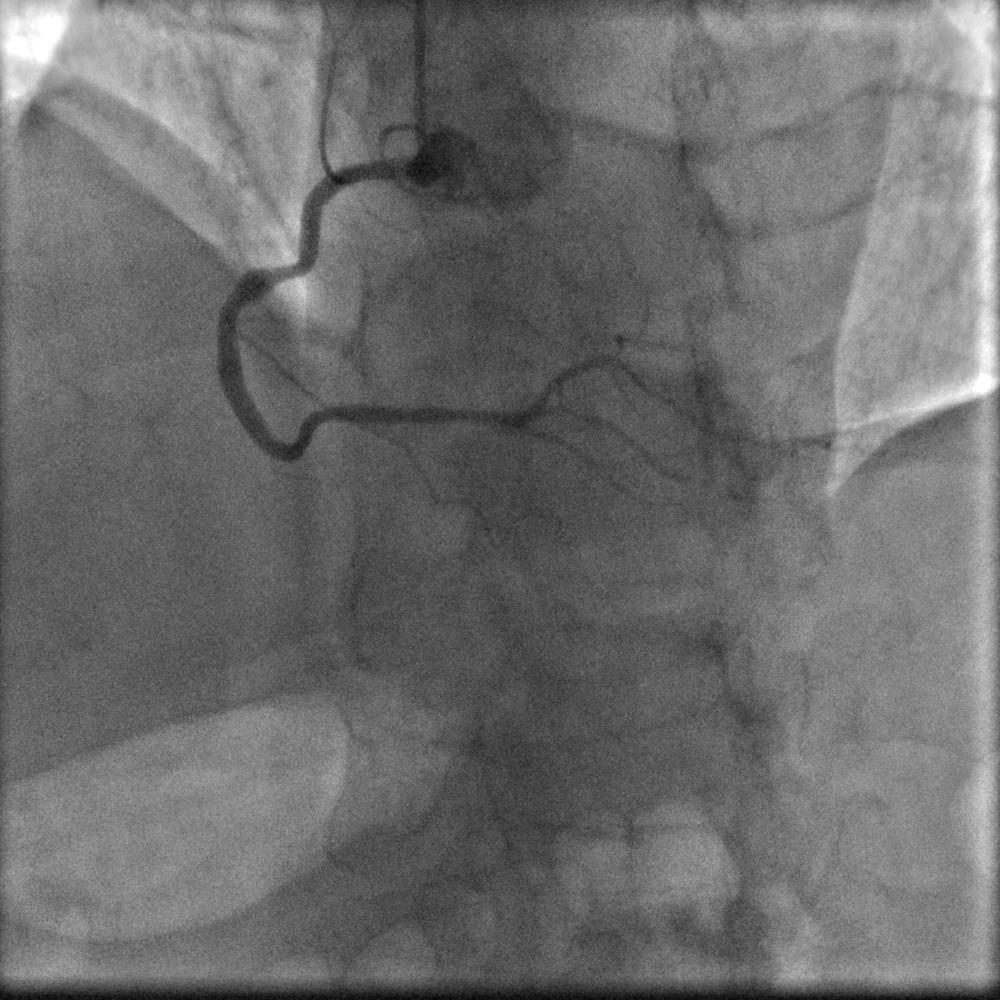Stenosis: (219, 283, 248, 318)
